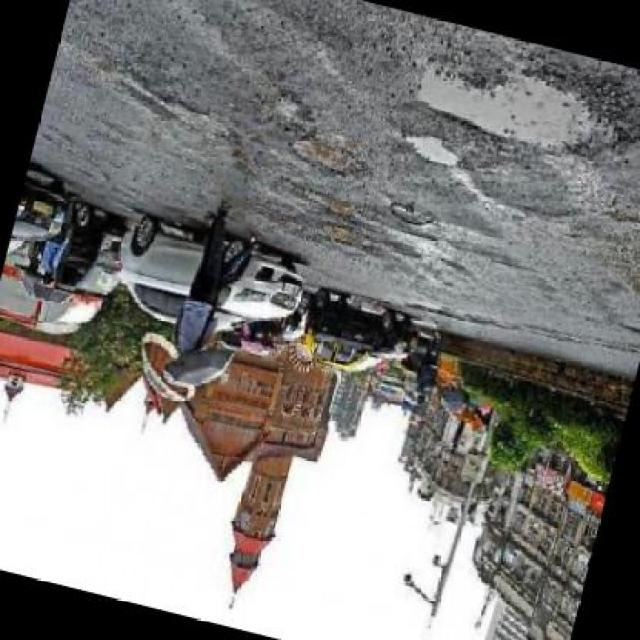pothole1: (401, 46, 621, 171), (284, 131, 368, 187), (399, 131, 466, 178), (385, 204, 438, 236)
